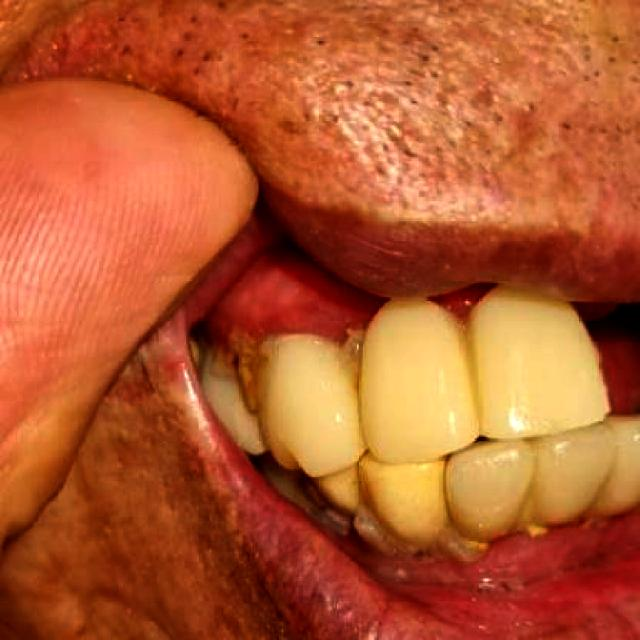Plaque: (205, 263, 383, 372)
